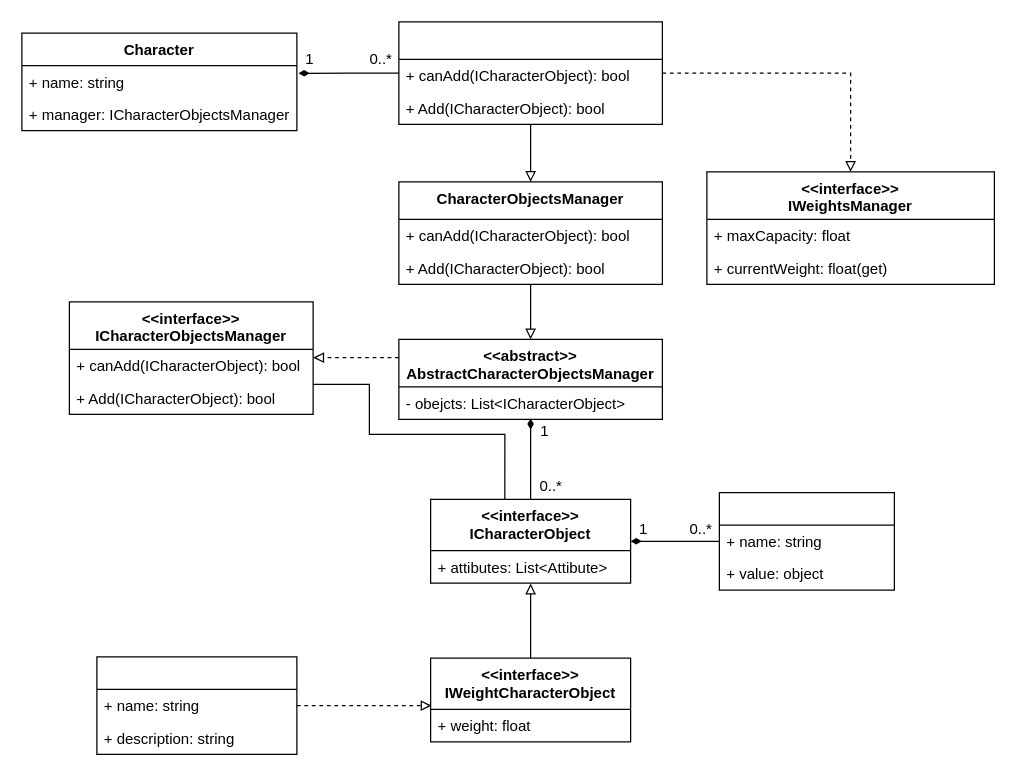
The diagram is 1016 pixels wide and 780 high, and some of its shapes have lost their labels. The shapes that lost their labels are listed below. From the top down, each one's box as (x1, y1, x2, y2) in pixels, then its label:
(398, 21, 662, 124): CharacterObjectsWeightsManager
(718, 491, 894, 590): CharacterAttribute
(96, 656, 297, 754): CharacterObject
